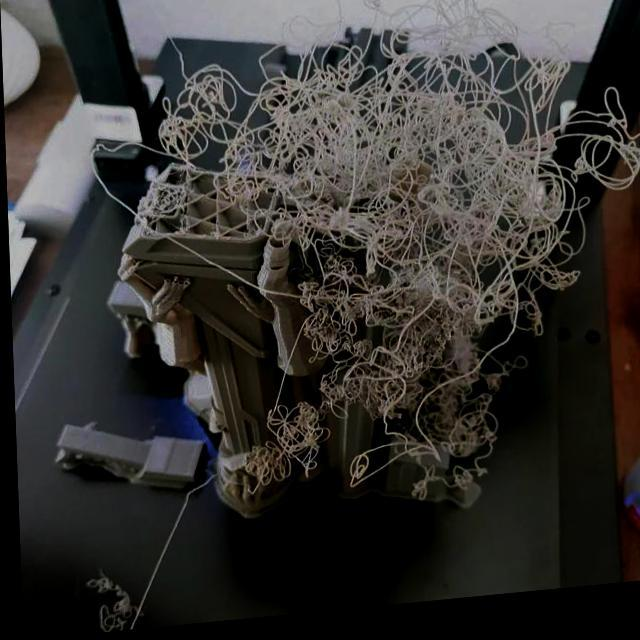spaghetti: (271, 42, 585, 231), (423, 206, 571, 319), (422, 303, 494, 451), (329, 217, 425, 315), (164, 75, 249, 171), (294, 290, 404, 364), (344, 355, 436, 428), (239, 419, 331, 490), (575, 113, 640, 200), (88, 571, 146, 636)
